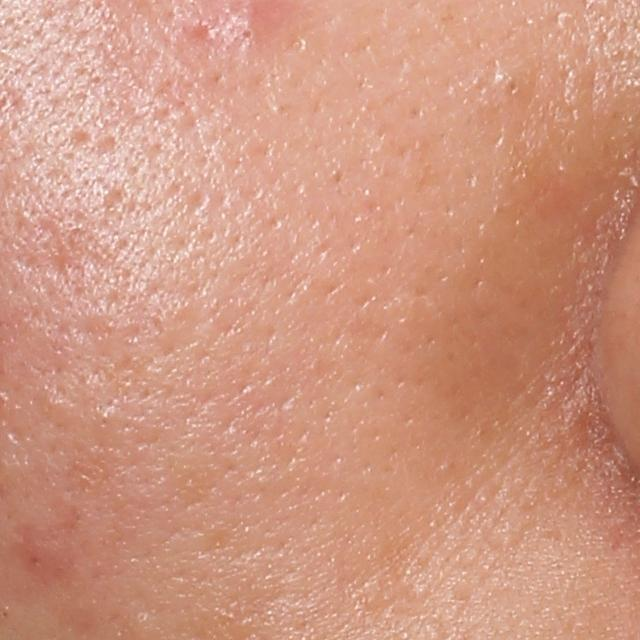comedo: (490, 65, 521, 98)
